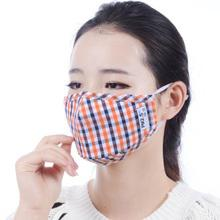OK: (64, 67, 158, 162)
